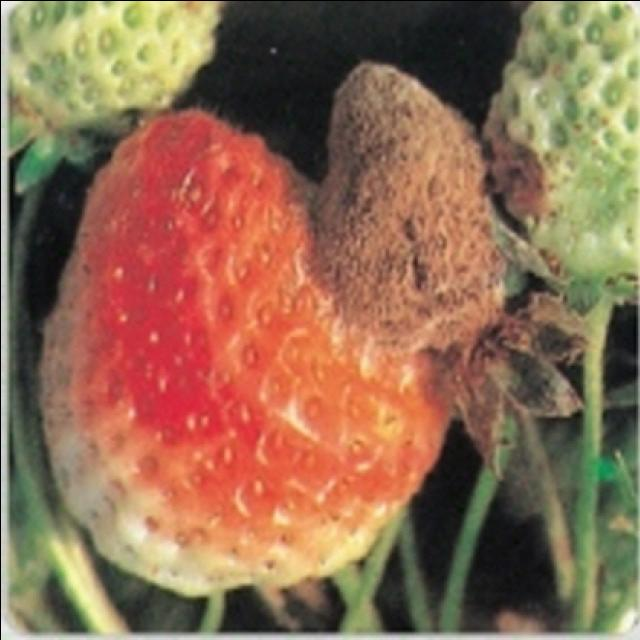Gray Mold: (308, 61, 591, 477)
